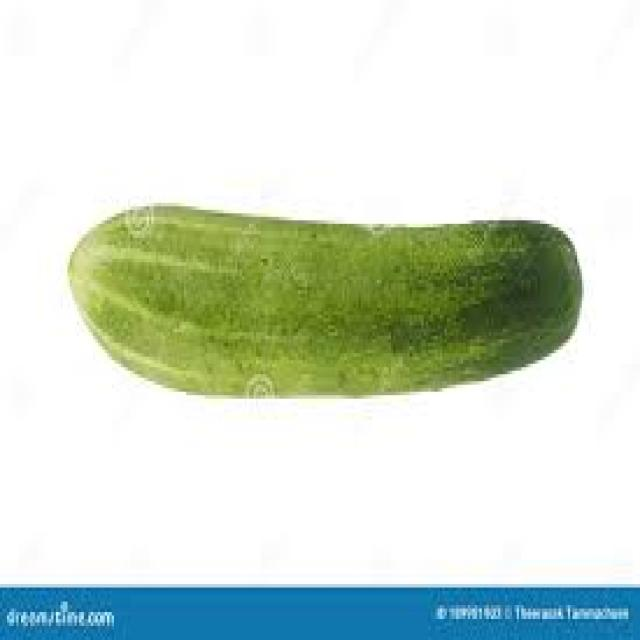cucumber: (65, 199, 582, 399)
